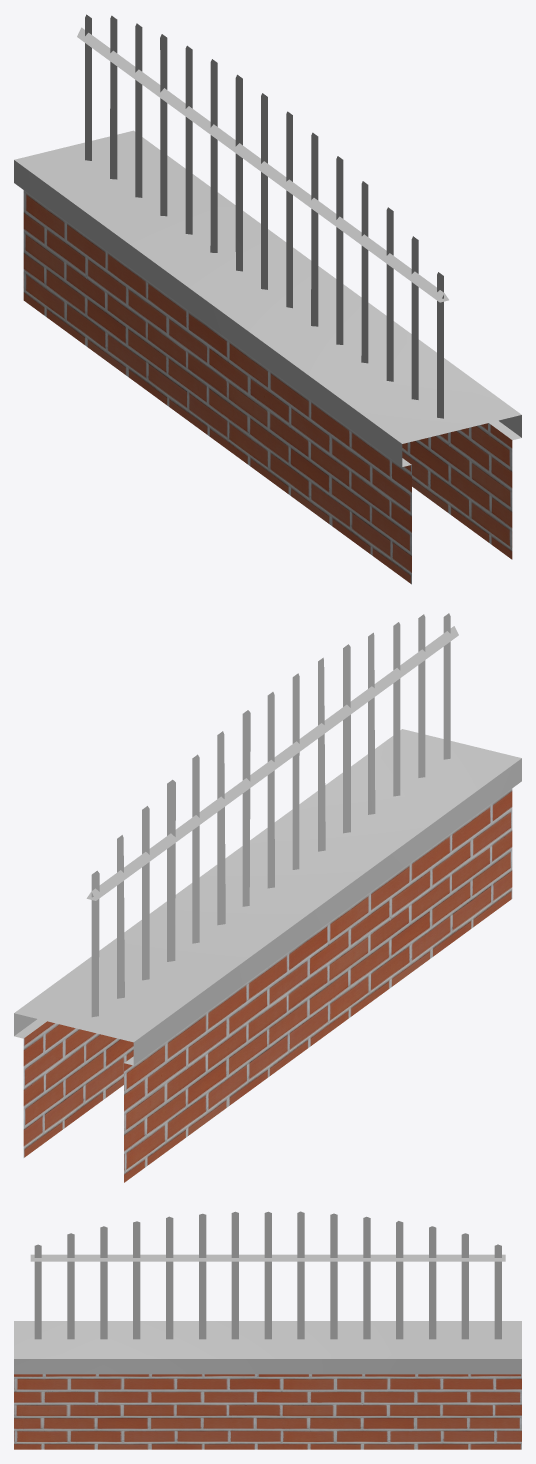
The model's file is MDLB_BrickWall_Low.FBX.
3 views of the same model, one above another, from view 1: azimuth 30°, elevation 25°; view 2: azimuth 150°, elevation 25°; view 3: azimuth 270°, elevation 25° (orthographic). The views are drawn at different scales.
Parts seen in each view (by area): view 1: BrickWall_Wall_Low_Wall; view 2: BrickWall_Wall_Low_Wall; view 3: BrickWall_Wall_Low_Wall.
Part boxes in pixels (<box>): BrickWall_Wall_Low_Wall: <box>14,14,521,584</box>; BrickWall_Wall_Low_Wall: <box>14,613,521,1182</box>; BrickWall_Wall_Low_Wall: <box>14,1211,521,1449</box>.
Bounding box in the file's own units: 46.25 × 124 × 260.
